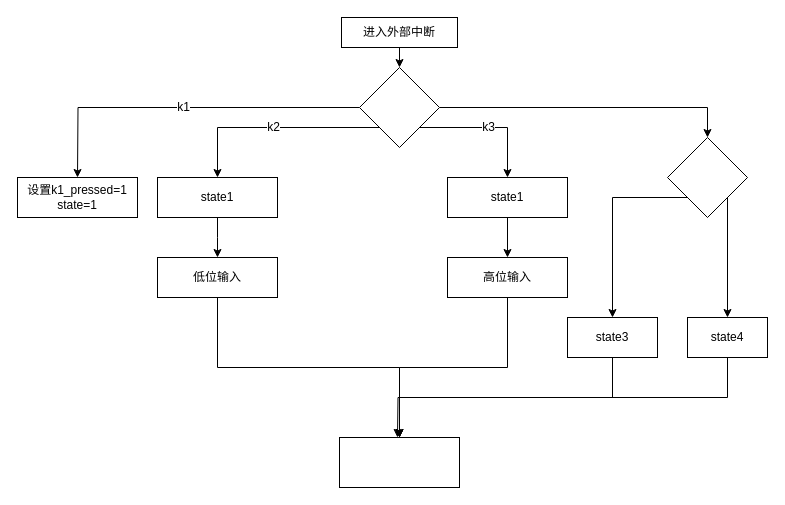
Image size: 785x505. Some labels were removed from this diagram. Each missing label, with the centre of its shape:
中断源: the point at 399,107
清中断退出: the point at 399,462
长按?: the point at 707,177
